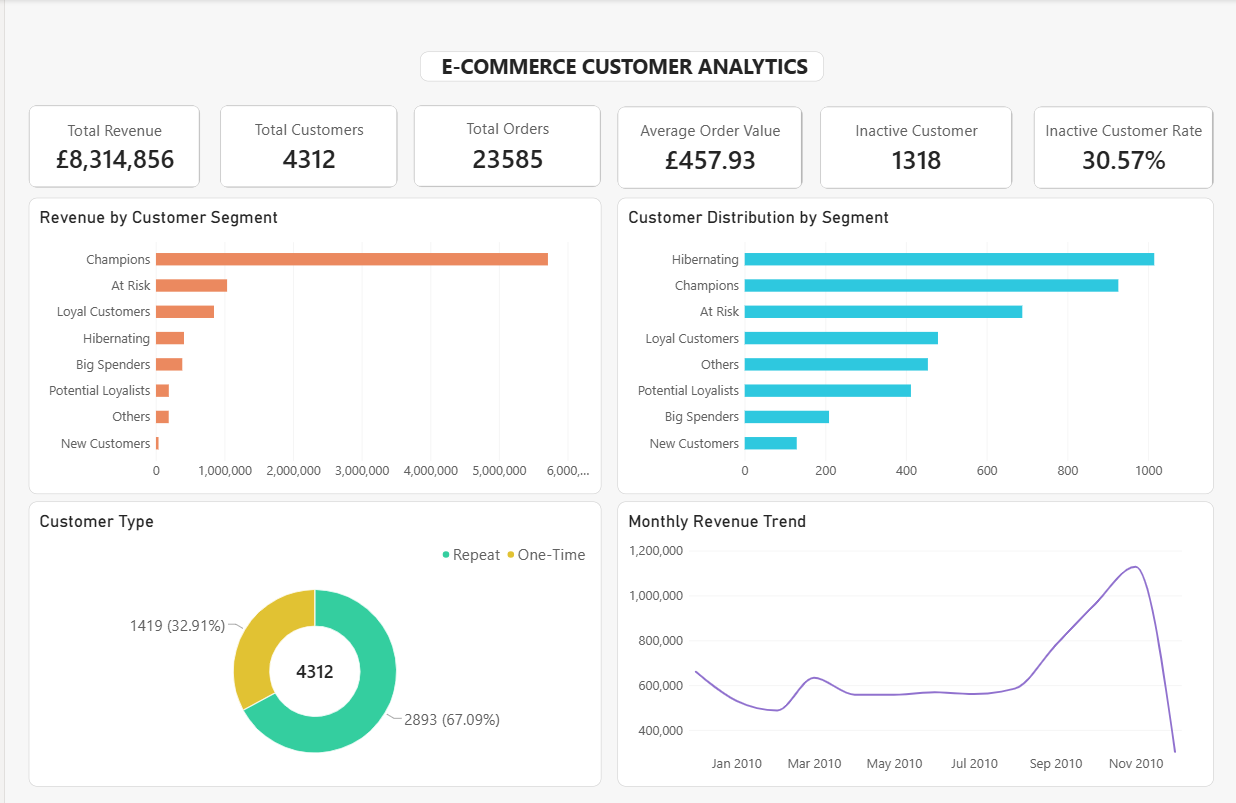

The page's visual inventory and layout, read from the dashboard file:
{"tool":"powerbi","page":{"name":"Executive Overview","canvas":[1920,1250],"ordinal":0},"visuals":[{"type":"cardVisual","fields":{"Data":["customer_analytics.Total Revenue"]},"box":[36.8,165.5,266.3,128.3],"z":0},{"type":"cardVisual","fields":{"Data":["customer_analytics.Total Customers"]},"box":[334.2,165.5,276,128.3],"z":1000},{"type":"cardVisual","fields":{"Data":["customer_analytics.Total Orders"]},"box":[635.5,165.5,291.3,127.3],"z":2000},{"type":"cardVisual","fields":{"Data":["customer_analytics.Average Order Value"]},"box":[952.3,167.4,287.7,128.3],"z":3000},{"type":"barChart","title":"Revenue by Customer Segment","fields":{"Category":["customer_analytics.Customer_Segment"],"Y":["customer_analytics.Customer Segment Revenue"]},"box":[36.8,309.6,890.2,460.7],"z":4000},{"type":"clusteredBarChart","title":"Customer Distribution by Segment","fields":{"Category":["customer_analytics.Customer_Segment"],"Y":["customer_analytics.Total Customers"]},"box":[952.3,309.6,927.2,460.7],"z":5000},{"type":"cardVisual","fields":{"Data":["customer_analytics.Inactive Customer"]},"box":[1267.2,167.4,299.3,128.3],"z":6000},{"type":"cardVisual","fields":{"Data":["customer_analytics.Inactive Customer Rate"]},"box":[1599.6,167.4,279.9,128.3],"z":7000},{"type":"donutChart","title":"Customer Type","fields":{"Category":["customer_analytics.Customer_Type"],"Y":["customer_analytics.Total Customers"]},"box":[36.8,781.6,890.2,443.2],"z":8000},{"type":"lineChart","title":"Monthly Revenue Trend","fields":{"Category":["ecommerce_cleaned_transactions.InvoiceDate.Variation.Date Hierarchy.Year","ecommerce_cleaned_transactions.InvoiceDate.Variation.Date Hierarchy.Month"],"Y":["customer_analytics.Total Revenue"]},"box":[952.3,781.6,927.2,443.2],"z":9000},{"type":"textbox","box":[645.3,81.6,627.8,46.6],"z":9001}]}

Visuals, with their boxes in screenshot pixels (x1, y1, x2, y2), scaled from the page's 1920x1250 canvas onto the 1236x803 screenshot:
cardVisual - customer_analytics.Total Revenue: x1=24, y1=106, x2=195, y2=189
cardVisual - customer_analytics.Total Customers: x1=215, y1=106, x2=393, y2=189
cardVisual - customer_analytics.Total Orders: x1=409, y1=106, x2=597, y2=188
cardVisual - customer_analytics.Average Order Value: x1=613, y1=108, x2=798, y2=190
"Revenue by Customer Segment" barChart: x1=24, y1=199, x2=597, y2=495
"Customer Distribution by Segment" clusteredBarChart: x1=613, y1=199, x2=1210, y2=495
cardVisual - customer_analytics.Inactive Customer: x1=816, y1=108, x2=1008, y2=190
cardVisual - customer_analytics.Inactive Customer Rate: x1=1030, y1=108, x2=1210, y2=190
"Customer Type" donutChart: x1=24, y1=502, x2=597, y2=787
"Monthly Revenue Trend" lineChart: x1=613, y1=502, x2=1210, y2=787
textbox: x1=415, y1=52, x2=820, y2=82
